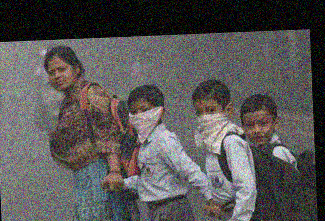with_mask: (127, 103, 156, 131), (195, 102, 223, 131)
without_mask: (242, 115, 275, 147), (47, 63, 75, 92)
